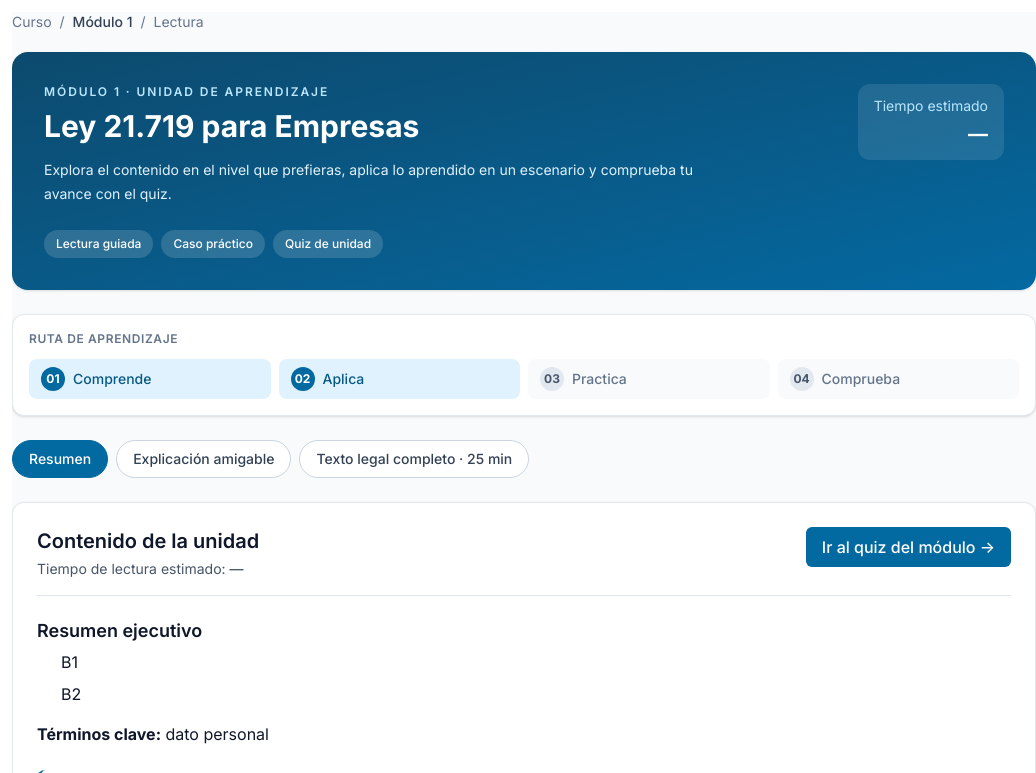
Test: LectorModulo view › carga módulo y muestra niveles de lectura
Check: the heading "Ley 21.719 para Empresas" is shown, box [44, 108, 419, 144]
Check: the button "Resumen" is shown, box [12, 440, 108, 478]
# Cambia a nivel amigable
Click the button "Explicación amigable": click(204, 458) [116, 440, 292, 478]
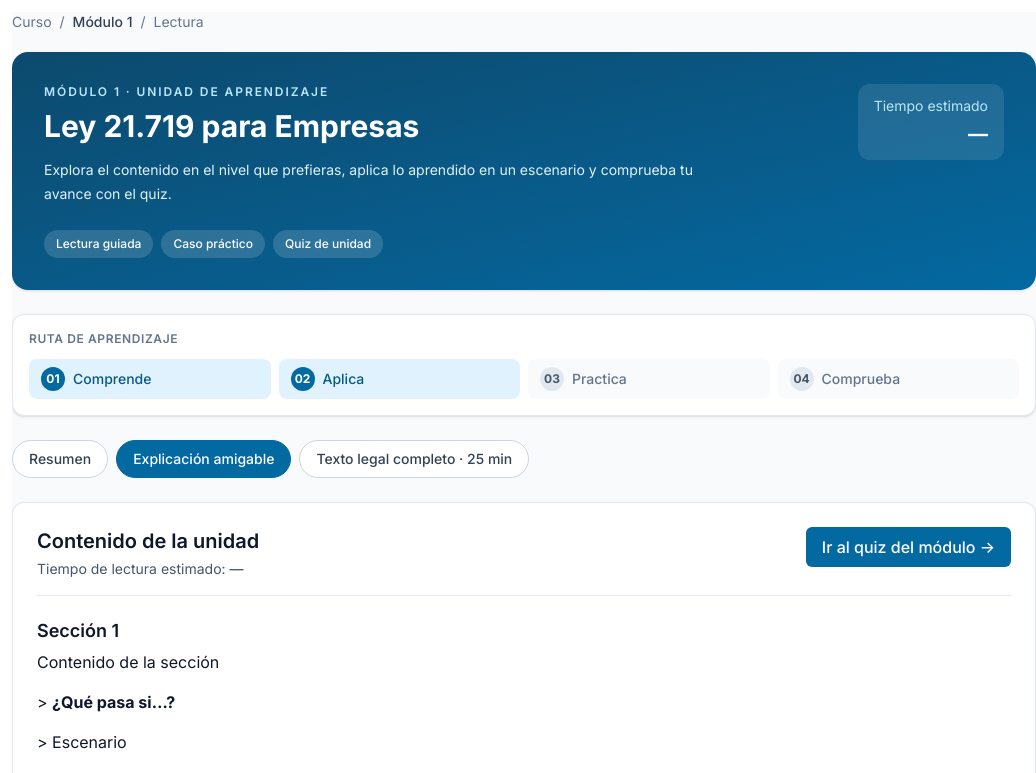
Check: the heading "Sección 1" is shown, box [37, 620, 119, 640]
# Cambia a nivel legal
Click the button "Texto legal completo · 25 min": click(414, 458) [299, 440, 529, 478]
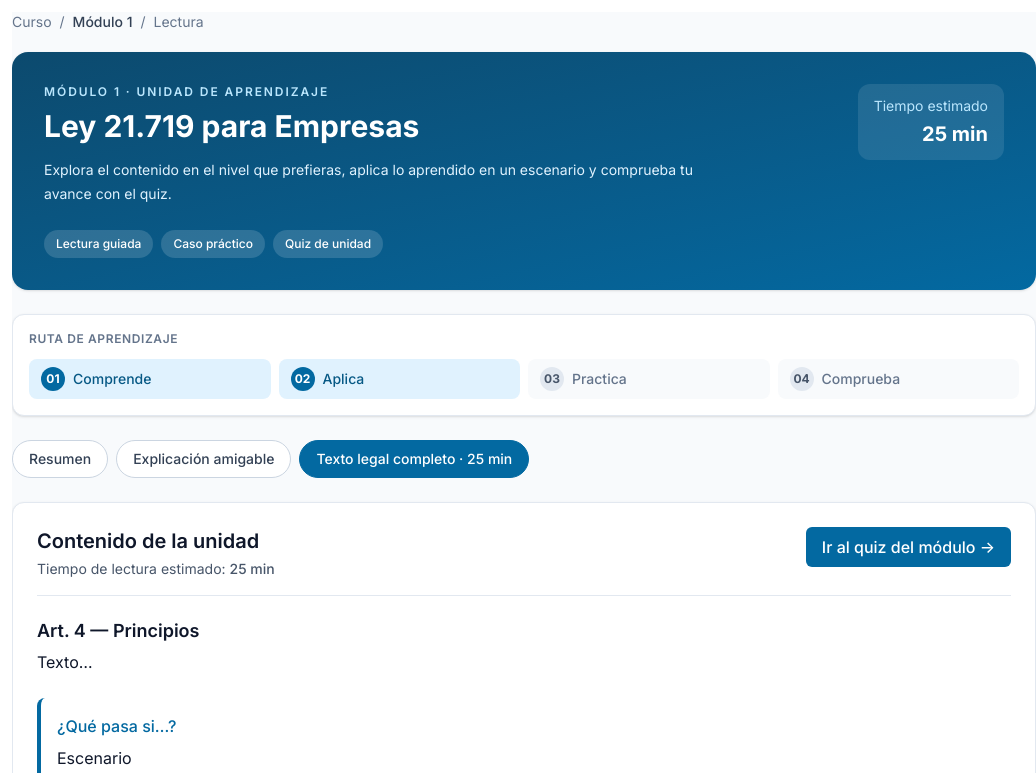
Check: the heading "Art. 4 — Principios" is shown, box [37, 620, 200, 640]
